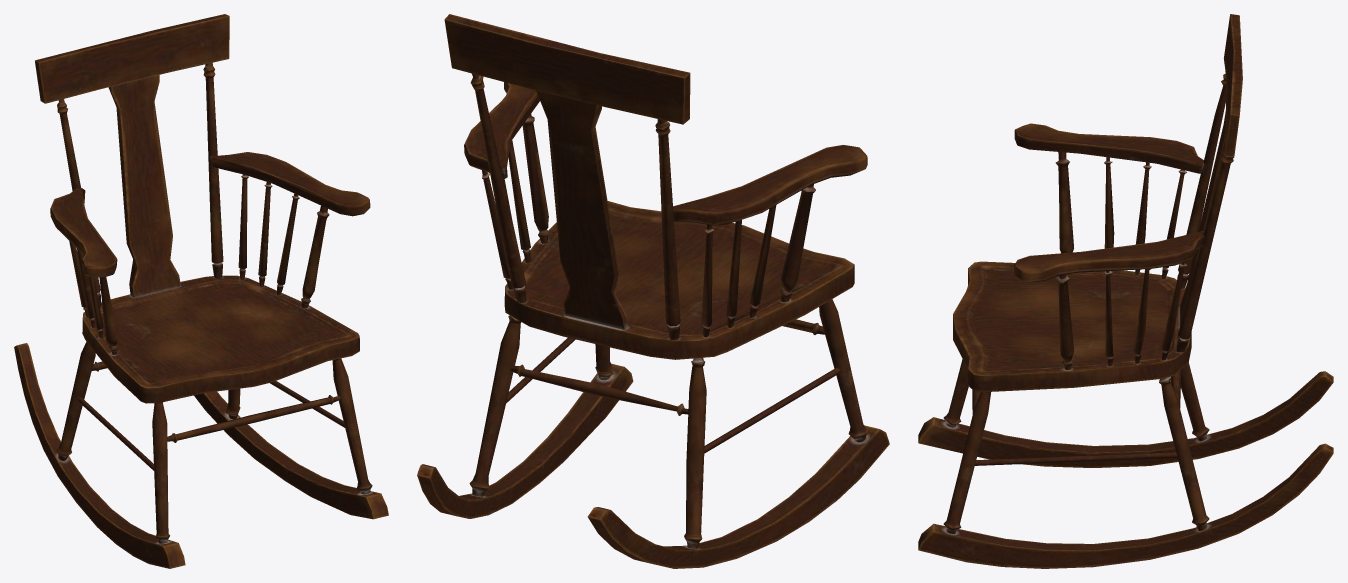
File: rockingchair_01.glb
3 renders of one model, left to right at view 1: azimuth 30°, elevation 25°; view 2: azimuth 150°, elevation 25°; view 3: azimuth 270°, elevation 25°, orthographic. The views are drawn at different scales.
Visible parts, largest first — view 1: Rockingchair_01; view 2: Rockingchair_01; view 3: Rockingchair_01.
Boxes of the visible parts, bbox=[...] form: Rockingchair_01: bbox=[14, 14, 388, 568]; Rockingchair_01: bbox=[417, 14, 889, 568]; Rockingchair_01: bbox=[918, 14, 1333, 568].
Bounding box in the file's own units: 0.7081 × 0.9949 × 0.8335.
Materials: 1 (1 with a texture image).
